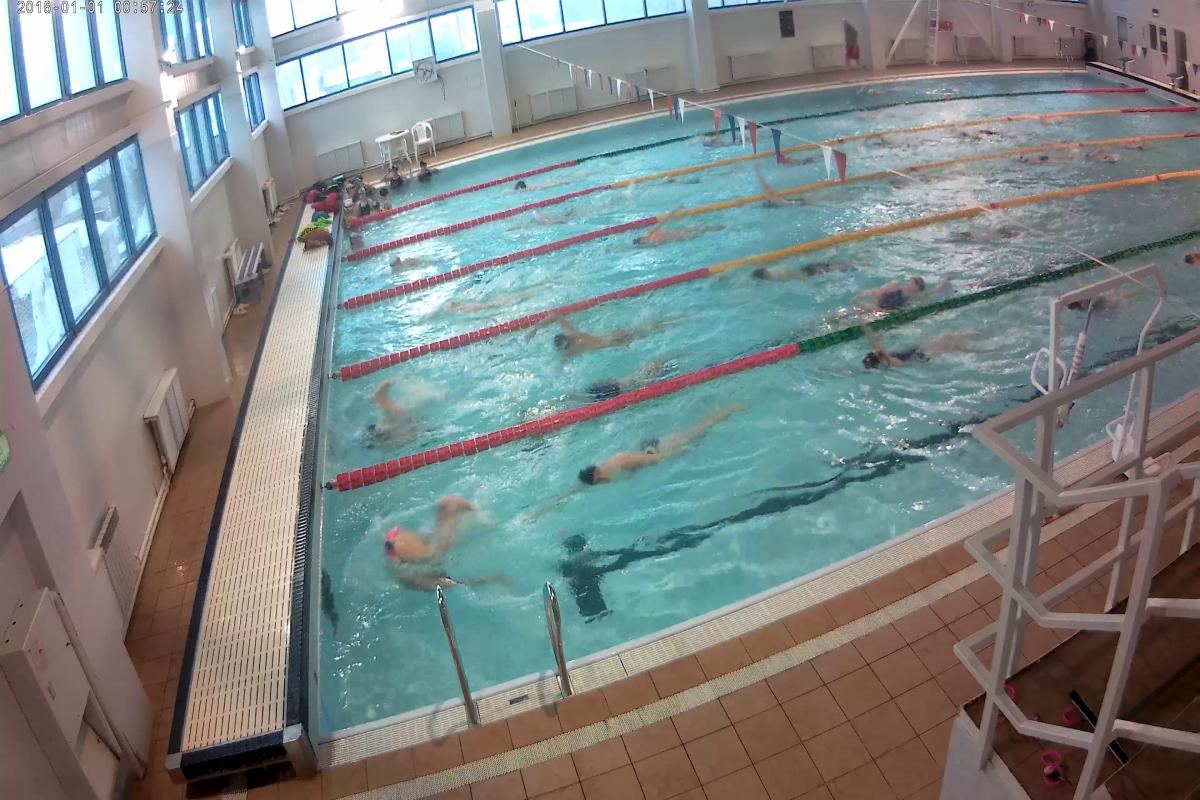swimmer: (572, 413, 742, 495), (369, 490, 487, 593), (519, 314, 660, 356), (355, 380, 433, 455), (836, 270, 939, 316), (855, 336, 976, 372), (1069, 270, 1152, 320), (622, 222, 725, 258), (741, 255, 839, 291), (751, 188, 858, 218), (436, 287, 528, 317), (946, 216, 1018, 250), (376, 248, 433, 276), (1185, 239, 1200, 275)
